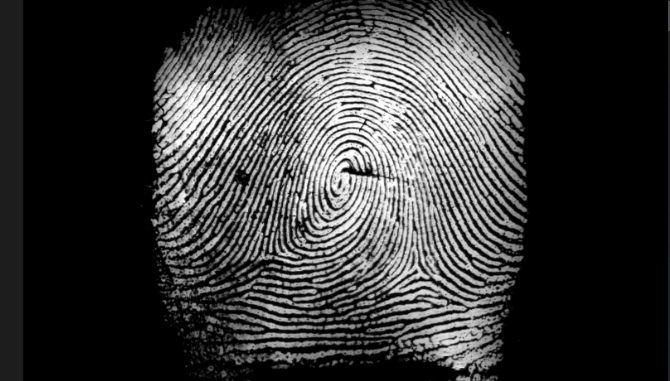deltas: (393, 241, 439, 293), (246, 223, 291, 273)
nucleo: (318, 151, 365, 212)
